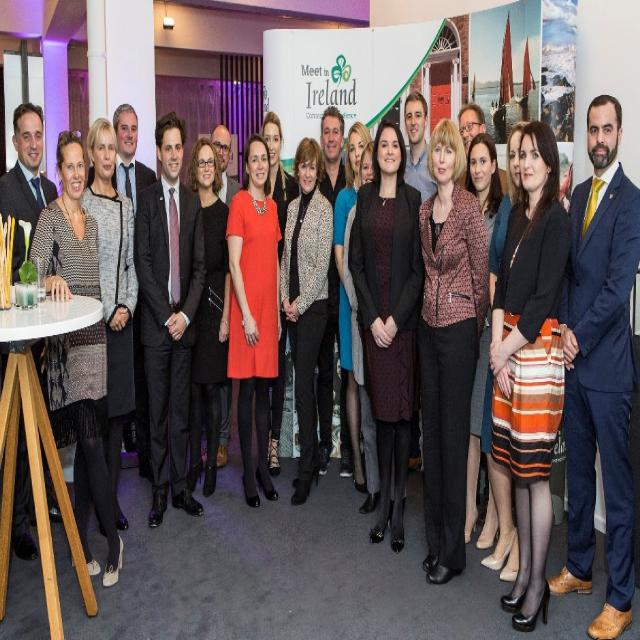body: (543, 93, 639, 639), (25, 128, 125, 590), (499, 121, 573, 630), (416, 114, 492, 586), (346, 120, 427, 556), (130, 110, 210, 528), (0, 98, 65, 561), (85, 99, 158, 487), (79, 116, 143, 533), (225, 135, 287, 508), (278, 135, 336, 511), (482, 123, 522, 582), (463, 132, 505, 550), (185, 137, 232, 500), (314, 103, 357, 481), (201, 124, 245, 471), (260, 107, 300, 479), (342, 140, 381, 516), (333, 120, 372, 493), (401, 90, 439, 204), (457, 102, 487, 156)
